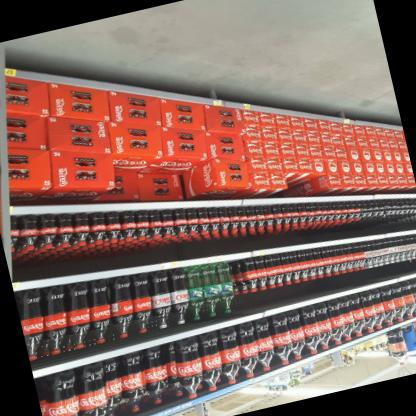empty_space: (207, 382, 268, 416), (312, 355, 335, 374), (183, 409, 197, 416)
